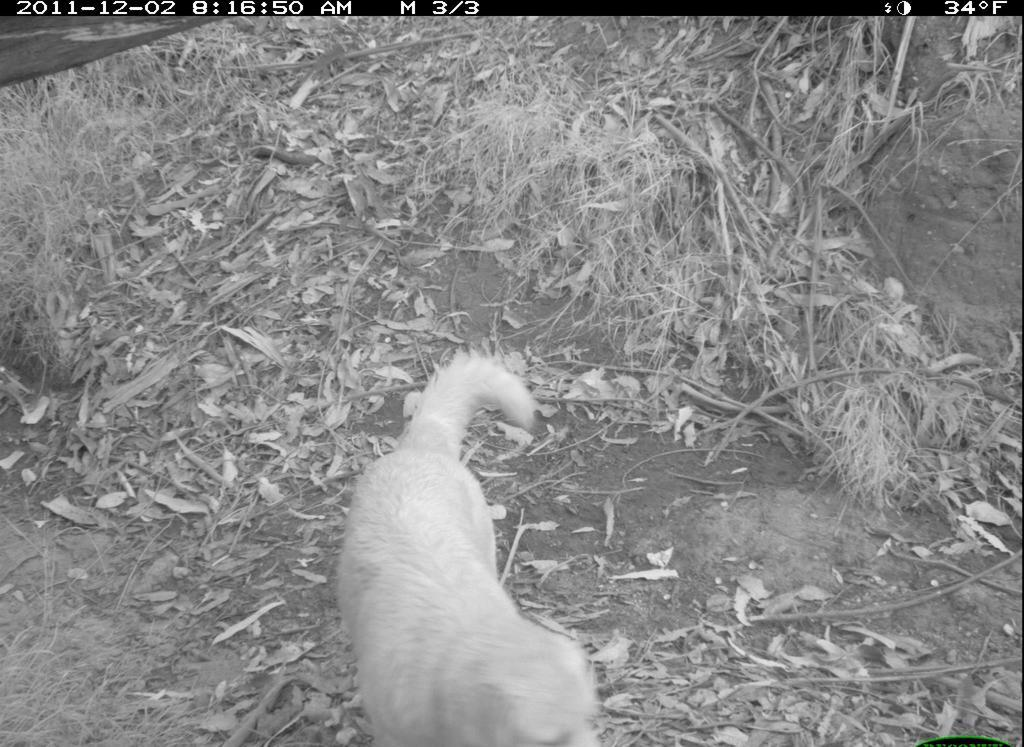dog: (329, 351, 610, 747)
